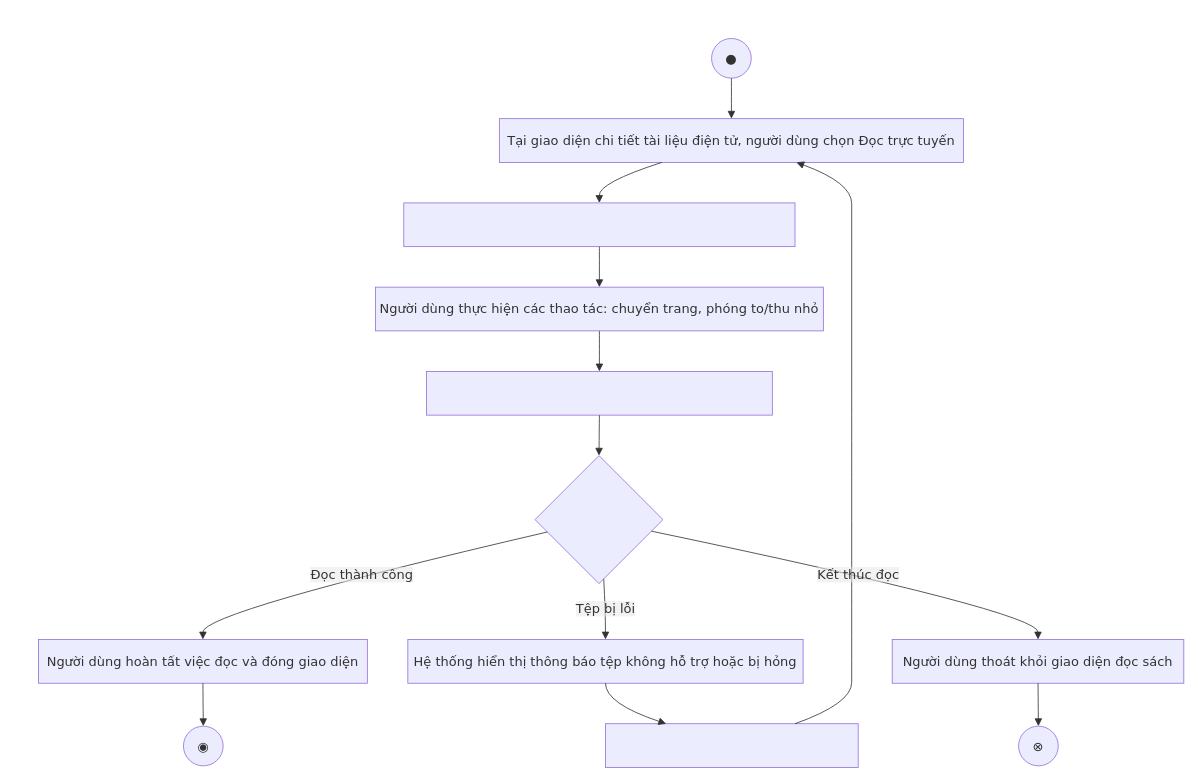
This 1198x782 diagram has some shape labels left out. Here are the shapes that lost their labels. From the top down, the box of each, then its label:
(403, 202, 795, 247): Hệ thống kiểm tra định dạng tệp và tải giao diện đọc sách
(426, 371, 772, 415): Hệ thống cập nhật và phản hồi hiển thị tương ứng
(534, 455, 663, 584): Kết quả đọc
(605, 723, 858, 767): Người dùng chọn xem tài liệu khác
